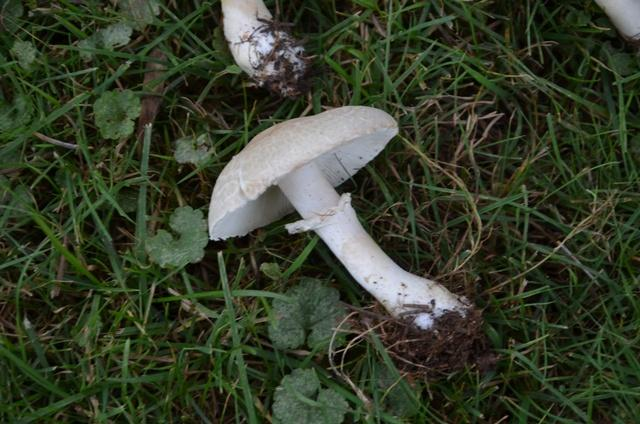poisonous_mushroom: (206, 103, 476, 332)
